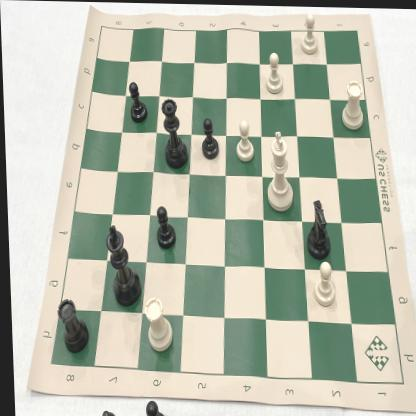black-king: (103, 220, 141, 310)
black-pawn: (153, 203, 178, 253), (126, 79, 148, 124), (198, 116, 220, 160)
black-queen: (158, 94, 190, 171)
black-rook: (55, 296, 88, 355), (303, 197, 331, 258)
white-king: (260, 128, 295, 212)
white-pawn: (310, 259, 337, 307), (233, 116, 256, 163), (263, 50, 285, 97), (299, 10, 321, 55)
white-rook: (141, 295, 173, 356), (338, 77, 368, 131)
